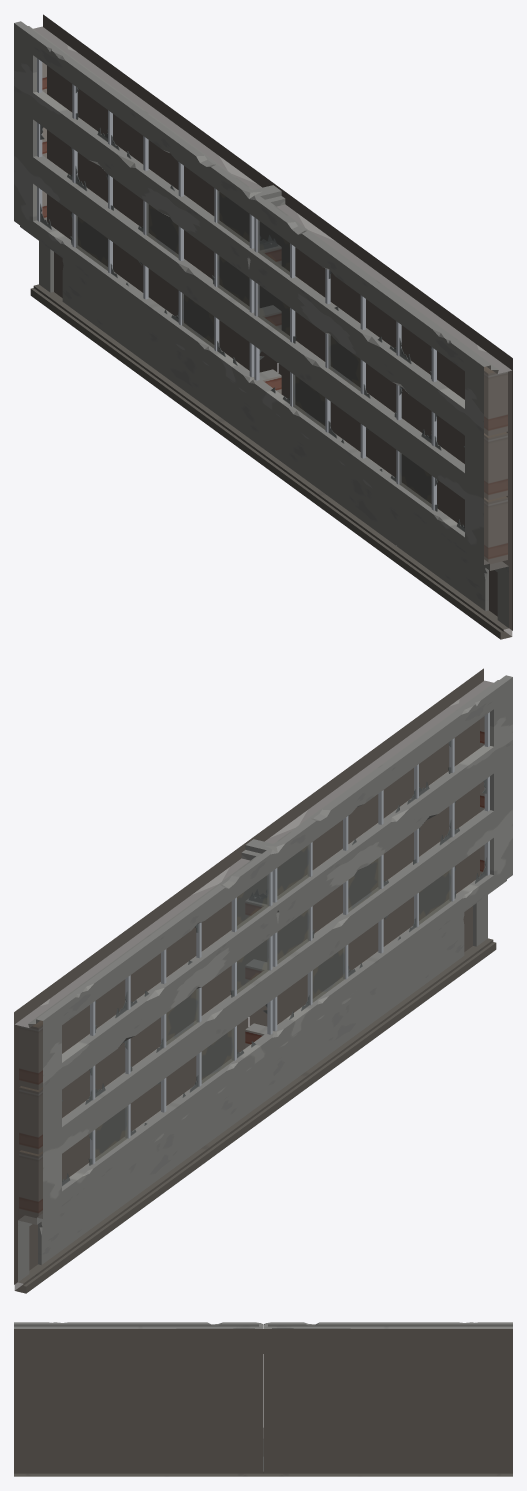
File: Bld_1_Double.fbx
3 renders of one model, top to bottom at view 1: azimuth 30°, elevation 25°; view 2: azimuth 150°, elevation 25°; view 3: azimuth 270°, elevation 25°, orthographic. The views are drawn at different scales.
Visible parts, largest first — view 1: Bld_1_Double; view 2: Bld_1_Double; view 3: Bld_1_Double.
Part boxes in pixels (x1,y1,x2,y2): Bld_1_Double: [14, 14, 512, 639]; Bld_1_Double: [14, 668, 512, 1293]; Bld_1_Double: [14, 1322, 512, 1476].
Bounding box in the file's own units: 142 × 1300 × 3978.
Materials: 3 (3 with a texture image).
